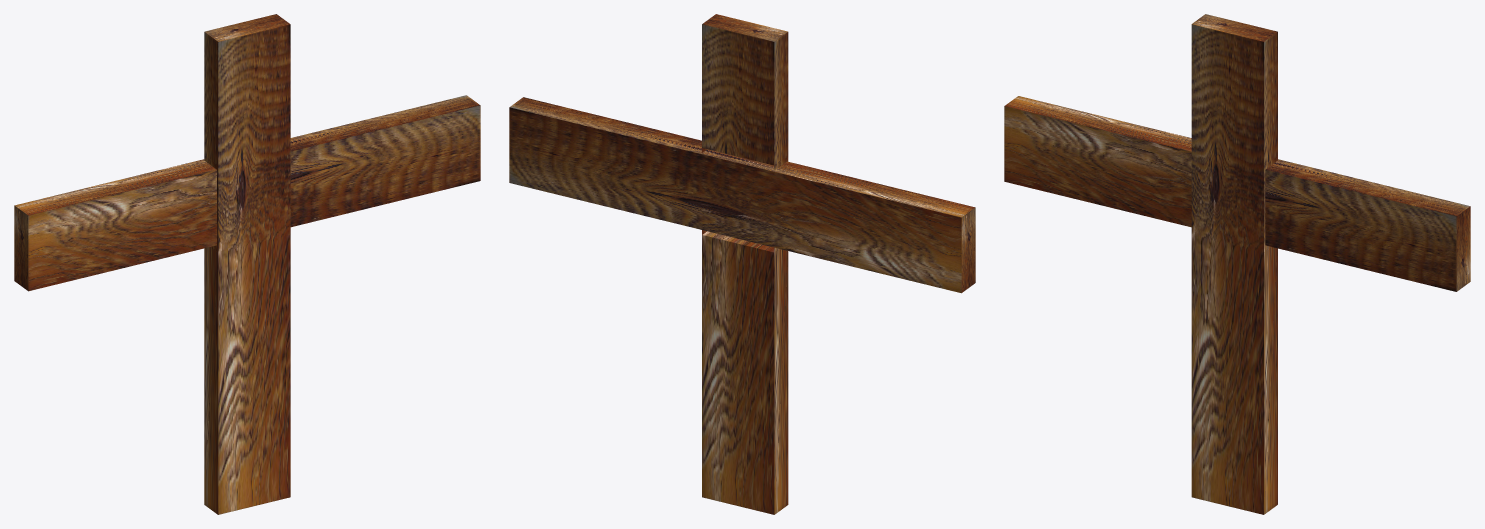
File: croix_simple.FBX
3 renders of one model, left to right at view 1: azimuth 30°, elevation 25°; view 2: azimuth 150°, elevation 25°; view 3: azimuth 330°, elevation 25°, orthographic.
Parts seen in each view (by area): view 1: Box001, Box002; view 2: Box002, Box001; view 3: Box001, Box002.
Part boxes in pixels (x1,y1,x2,y2): Box001: [204, 14, 290, 514]; Box002: [14, 95, 480, 291]; Box002: [509, 97, 975, 293]; Box001: [702, 14, 788, 514]; Box001: [1191, 14, 1277, 514]; Box002: [1004, 96, 1470, 291].
Size of the model in its own units: 75 by 75 by 4.38.
